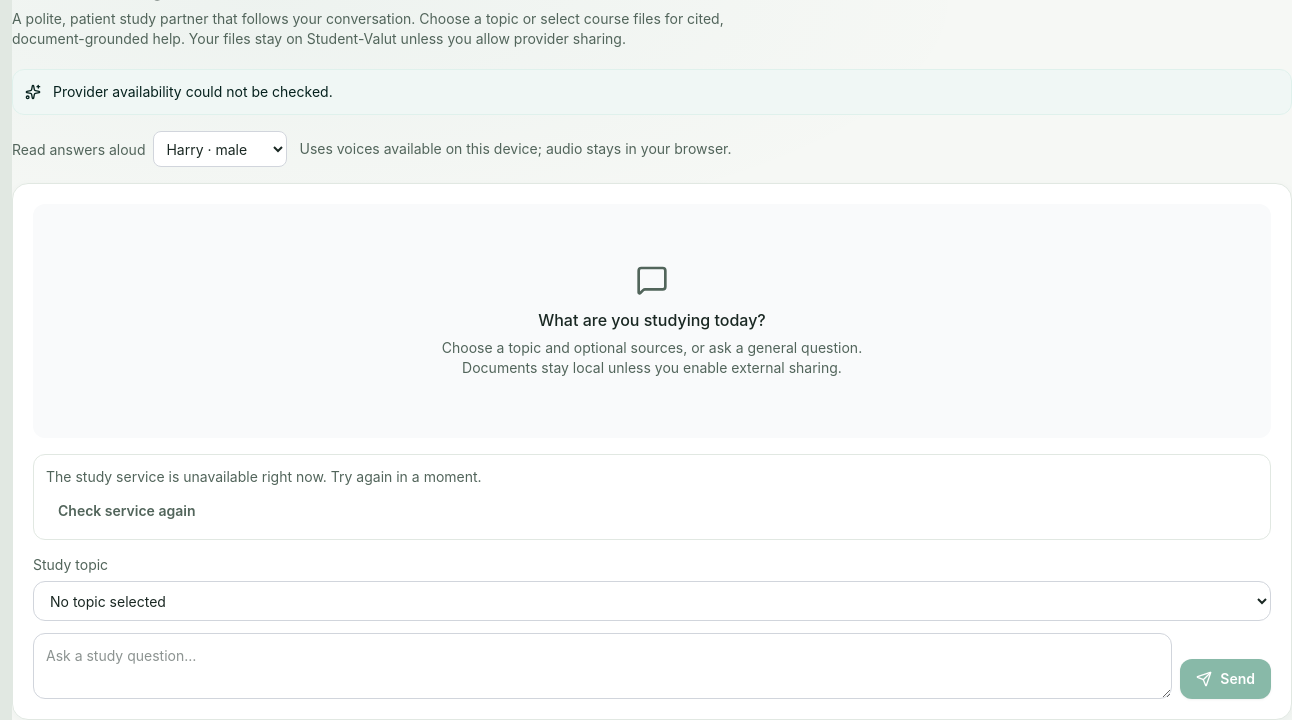
Test: AIPage › handles provider outage and keeps the typed question available for retry
The image size is (1292, 720).
(page scrolled)
Expected: the text "Provider availability could not be checked." is shown, [53, 82, 333, 102]
Type "Help me review vectors" into the text box named "Your study question" at (603, 666), box [33, 633, 1172, 699]
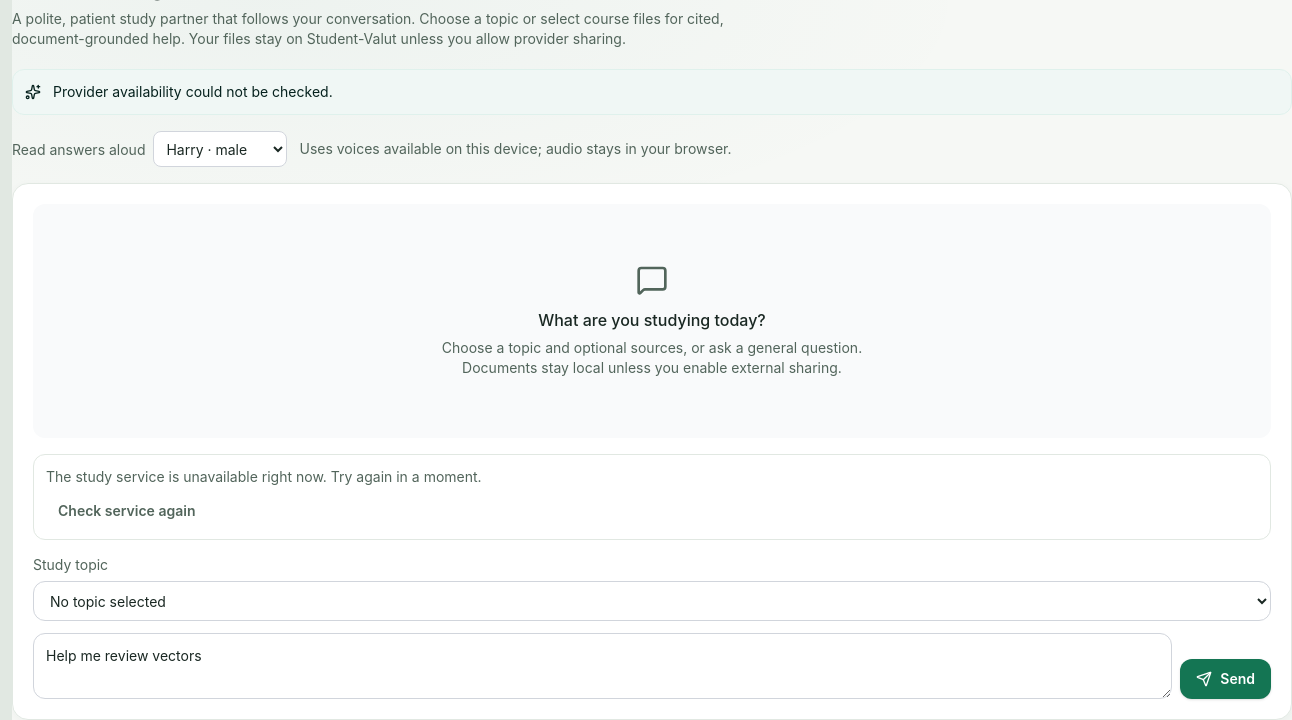
Click the button with aria-label "Send question" at (1226, 679), box [1180, 659, 1271, 699]
(page scrolled)
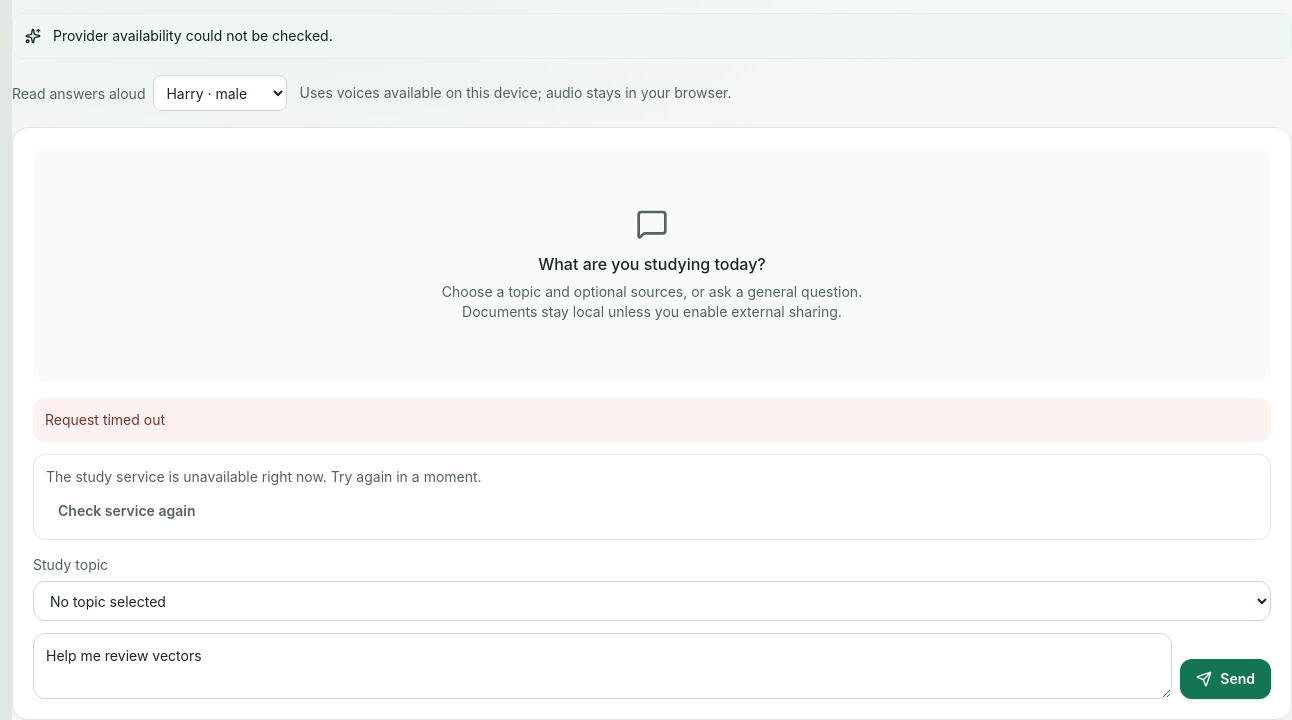
Now the message "Request timed out" is shown, box [33, 398, 1271, 442]
